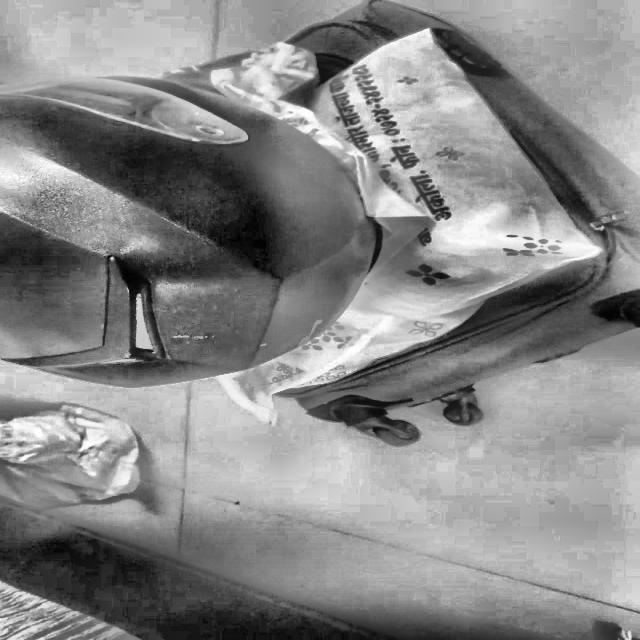Helmet: (0, 71, 392, 387)
